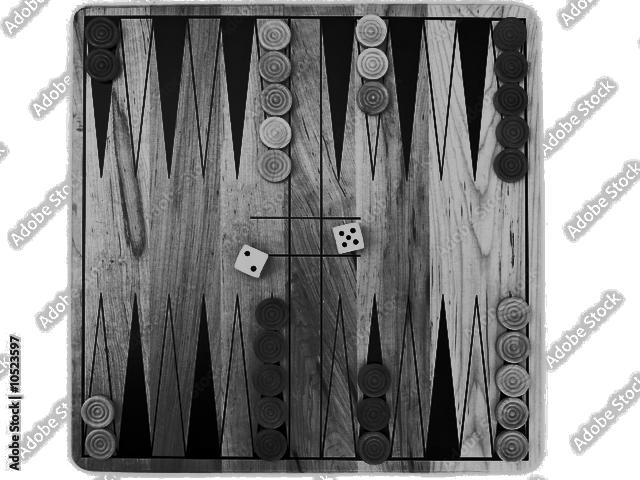board: (79, 20, 529, 469)
dark_p: (253, 295, 295, 335), (251, 361, 289, 399), (357, 362, 396, 399), (491, 15, 529, 52), (494, 81, 531, 117), (251, 329, 288, 365), (83, 48, 121, 83), (355, 397, 393, 431), (493, 148, 529, 183), (356, 429, 391, 465), (253, 394, 288, 430), (493, 115, 530, 149), (251, 429, 288, 463), (494, 50, 529, 85), (85, 17, 123, 48)
dice: (231, 242, 270, 281), (330, 219, 367, 255)
light_p: (493, 361, 532, 399), (355, 79, 392, 117), (495, 294, 532, 331), (494, 329, 533, 363), (256, 18, 295, 52), (494, 395, 530, 431), (355, 46, 391, 82), (81, 394, 118, 429), (494, 428, 531, 463), (83, 427, 118, 462), (259, 83, 295, 117), (257, 51, 294, 84), (355, 13, 389, 48), (259, 115, 293, 149)
